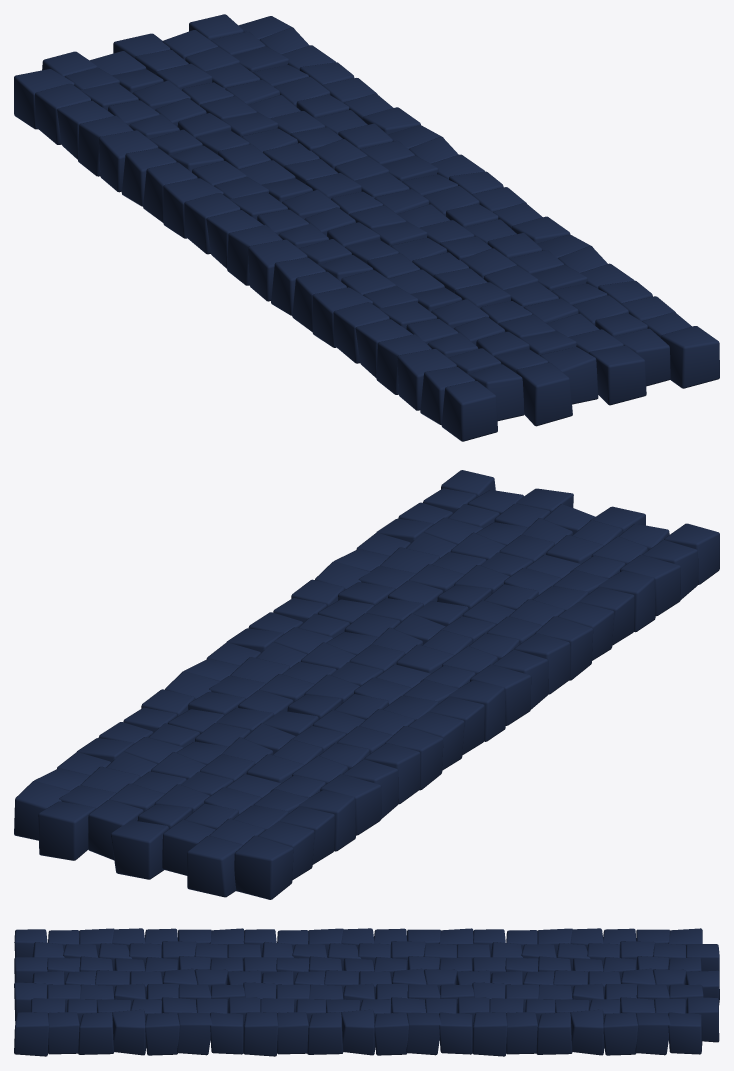
Rendered from floorCVD.fbx.
The picture shows the model from 3 angles, top to bottom: view 1: azimuth 30°, elevation 25°; view 2: azimuth 150°, elevation 25°; view 3: azimuth 270°, elevation 25°; orthographic projection. The views are drawn at different scales.
Visible parts, largest first — view 1: Cube.023; view 2: Cube.023; view 3: Cube.023.
Boxes of the visible parts, x1,y1,x2,y2 form: Cube.023: (14, 14, 719, 441); Cube.023: (14, 470, 719, 899); Cube.023: (14, 928, 719, 1056).
Bounding box in the file's own units: 1423 × 236 × 4320.
